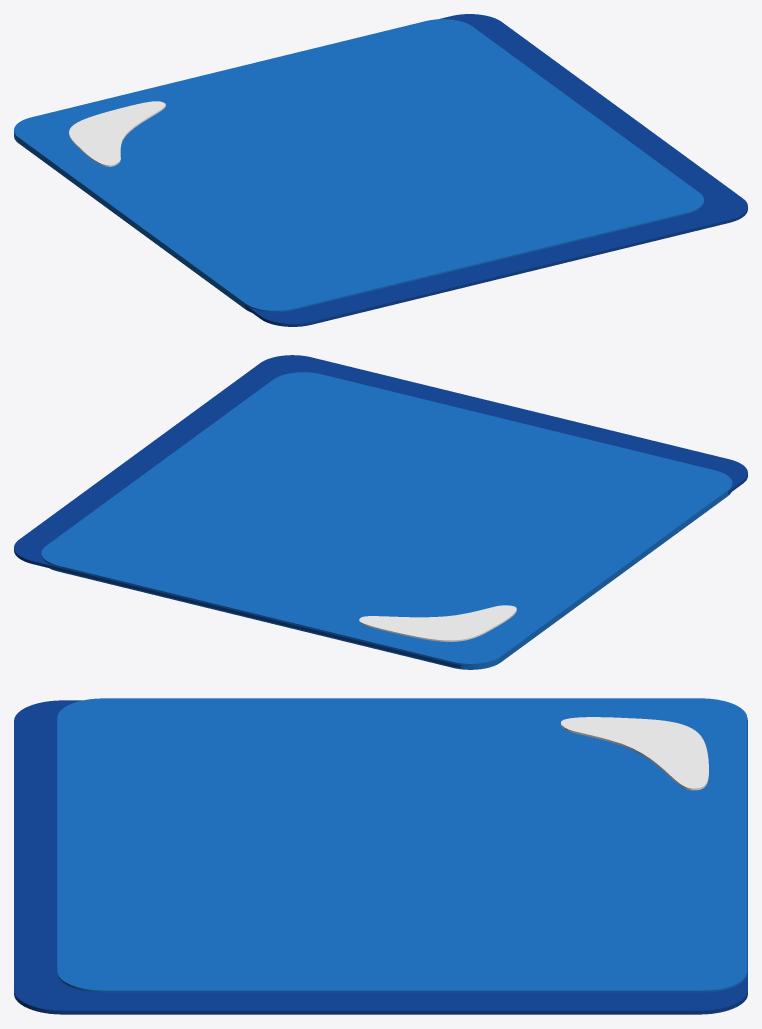
The model's file is emoji_u1f7e6.glb.
3 views of the same model, one above another, from view 1: azimuth 30°, elevation 25°; view 2: azimuth 150°, elevation 25°; view 3: azimuth 270°, elevation 25° (orthographic). The views are drawn at different scales.
Parts seen in each view (by area): view 1: emoji_u1f7e6; view 2: emoji_u1f7e6; view 3: emoji_u1f7e6.
Boxes of the visible parts, box(x1,y1,x2,y2) form: emoji_u1f7e6: box(14, 14, 747, 326); emoji_u1f7e6: box(14, 355, 747, 669); emoji_u1f7e6: box(14, 698, 747, 1014).
Size of the model in its own units: 0.0339 by 0.0006 by 0.0339.
